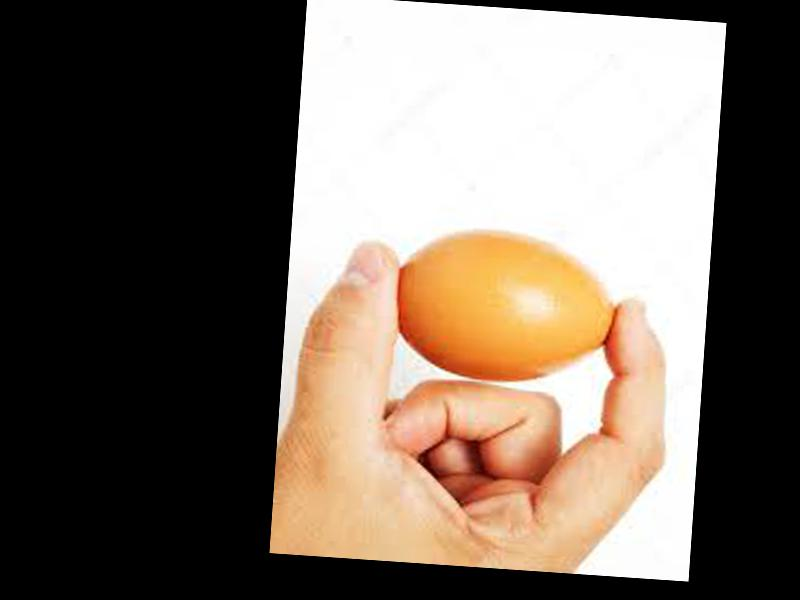Eggs: (391, 222, 624, 390)
